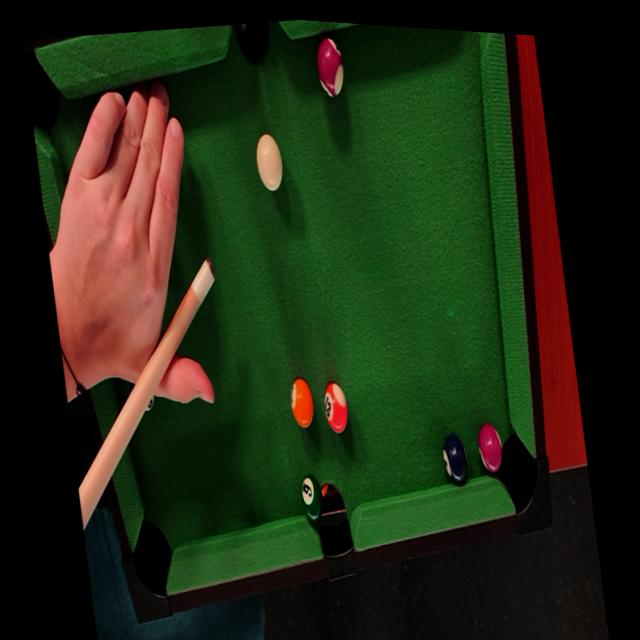cue ball: (249, 122, 288, 197)
other: (307, 26, 348, 108), (436, 429, 475, 497), (469, 417, 508, 480), (317, 376, 354, 442), (283, 373, 318, 435), (296, 470, 326, 524)
